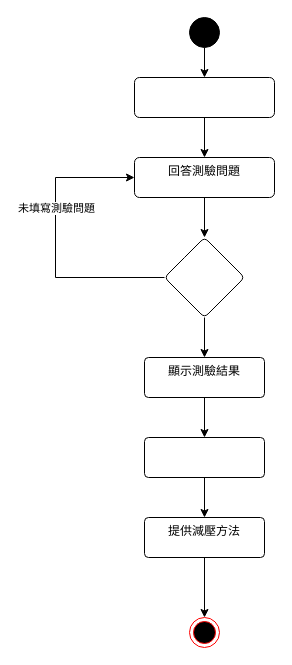
Some shapes in this 292 by 665 pixel diagram are drawn without their labels. Here are the shapes that lost their labels. From the top down, the centre of each, then its label:
At (x=204, y=97): "選擇性別/年齡".
At (x=204, y=457): "填寫心情記錄".
